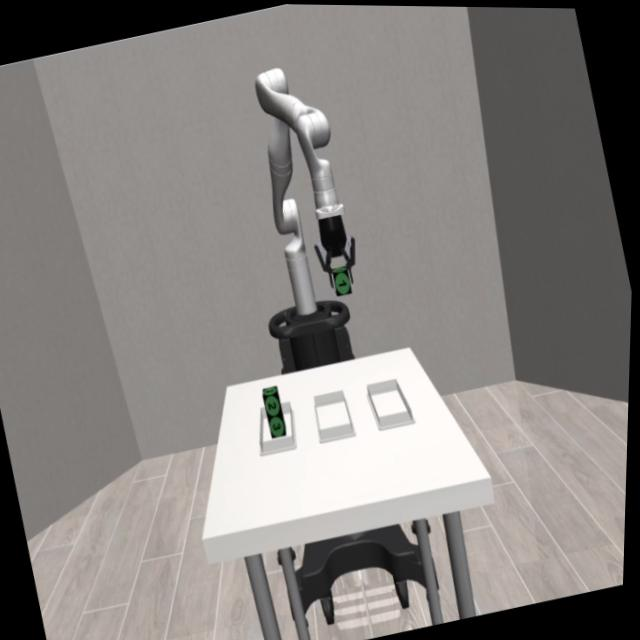cube1: (331, 262, 355, 296)
cube2: (262, 384, 285, 416)
cube3: (269, 411, 291, 439)
